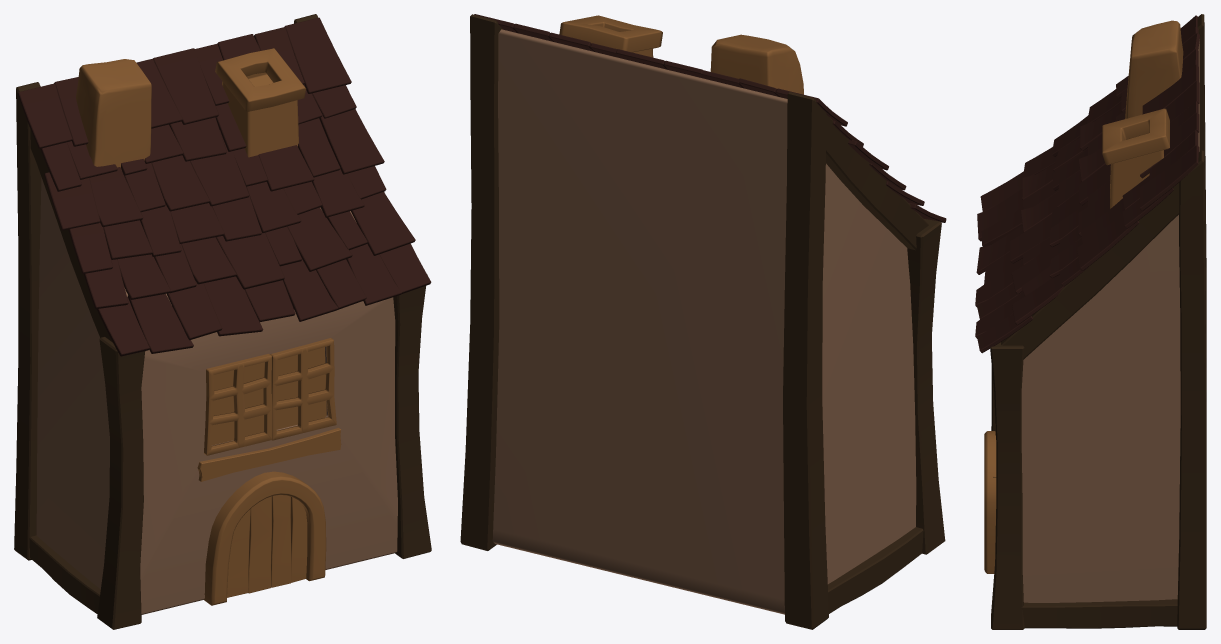
File: P_HouseFour.obj
The picture shows the model from 3 angles, left to right: view 1: azimuth 30°, elevation 25°; view 2: azimuth 150°, elevation 25°; view 3: azimuth 270°, elevation 25°; orthographic projection. The views are drawn at different scales.
Visible parts, largest first — view 1: HouseFour2_trim_pCube88; view 2: HouseFour2_trim_pCube88; view 3: HouseFour2_trim_pCube88.
Boxes of the visible parts, x1,y1,x2,y2 form: HouseFour2_trim_pCube88: (14,14,431,629); HouseFour2_trim_pCube88: (460,14,946,629); HouseFour2_trim_pCube88: (975,14,1206,629).
Bounding box in the file's own units: 2.56 × 3.69 × 1.6.
